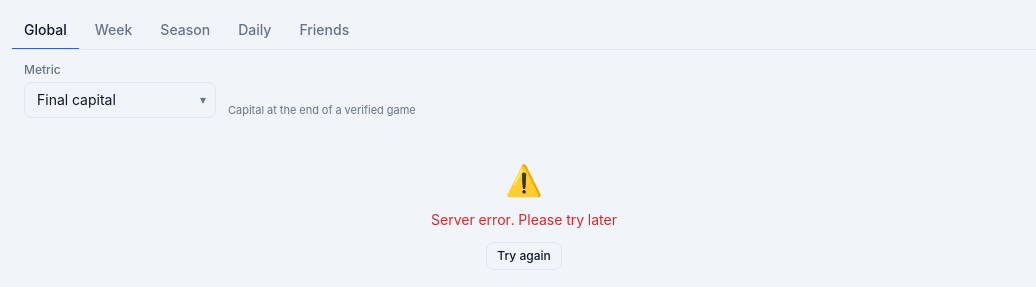
<OnlineLeaderboard /> › shows empty and error states with retry
This screenshot has width=1036, height=287.
Expected: the text "Server error. Please try later" is shown, [431,210,617,230]
Click the button "Try again".
click(524, 256)  # box [486,242,562,270]
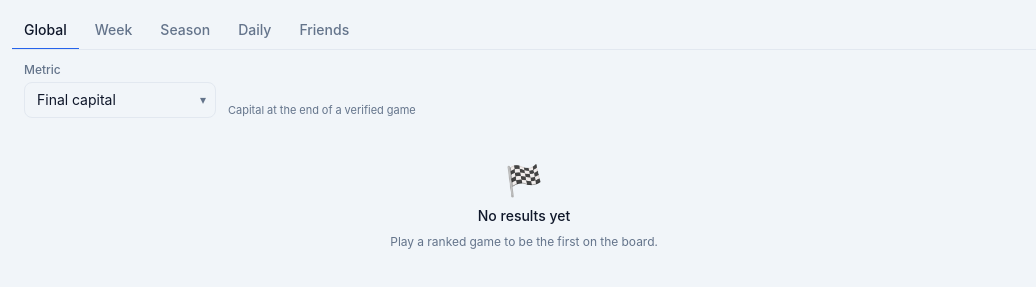
Result: the text "No results yet" is shown at [478,206,570,226]
